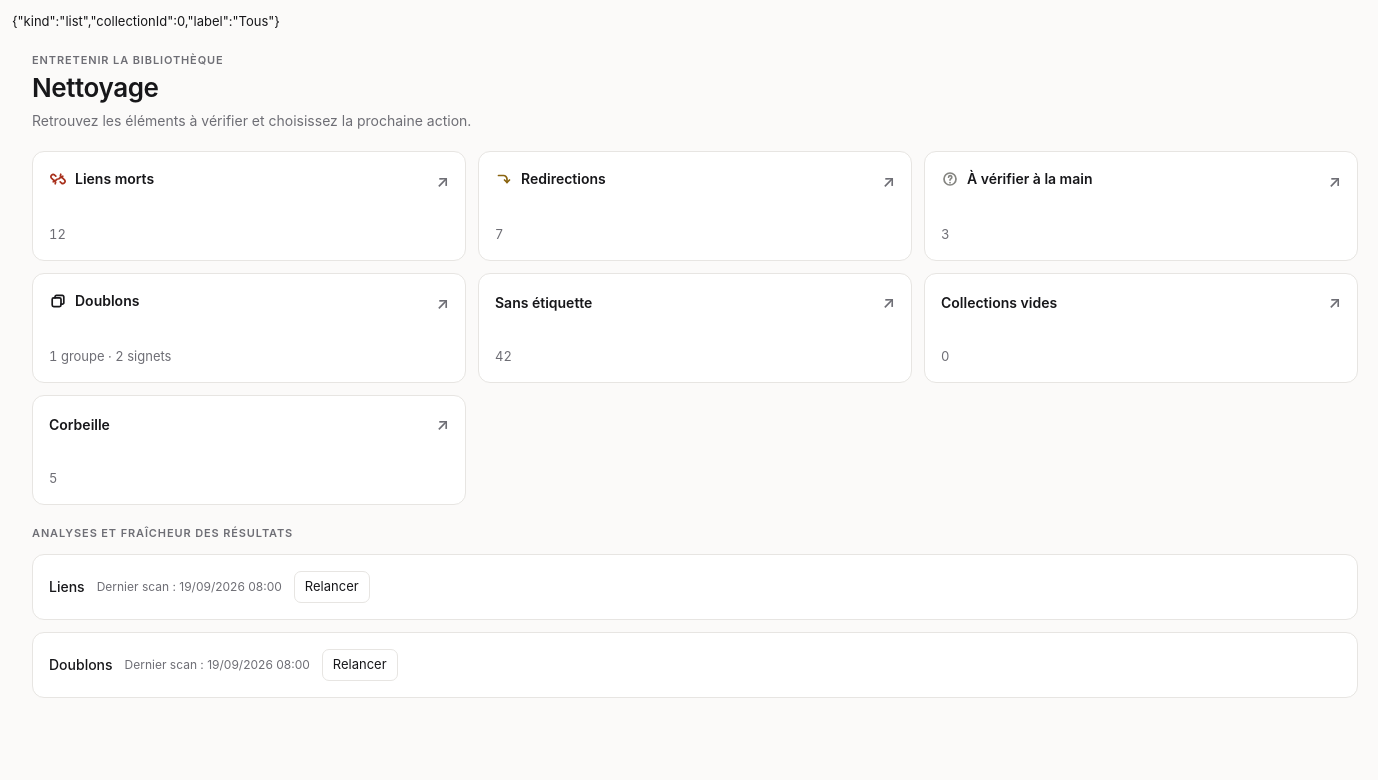
Scenario: CleanupDashboard › affiche l'erreur inline quand le lancement échoue
This screenshot has width=1378, height=780.
Click the button named "Lancer l'analyse" at (332, 586), box x1=294 y1=570 x2=370 y2=602
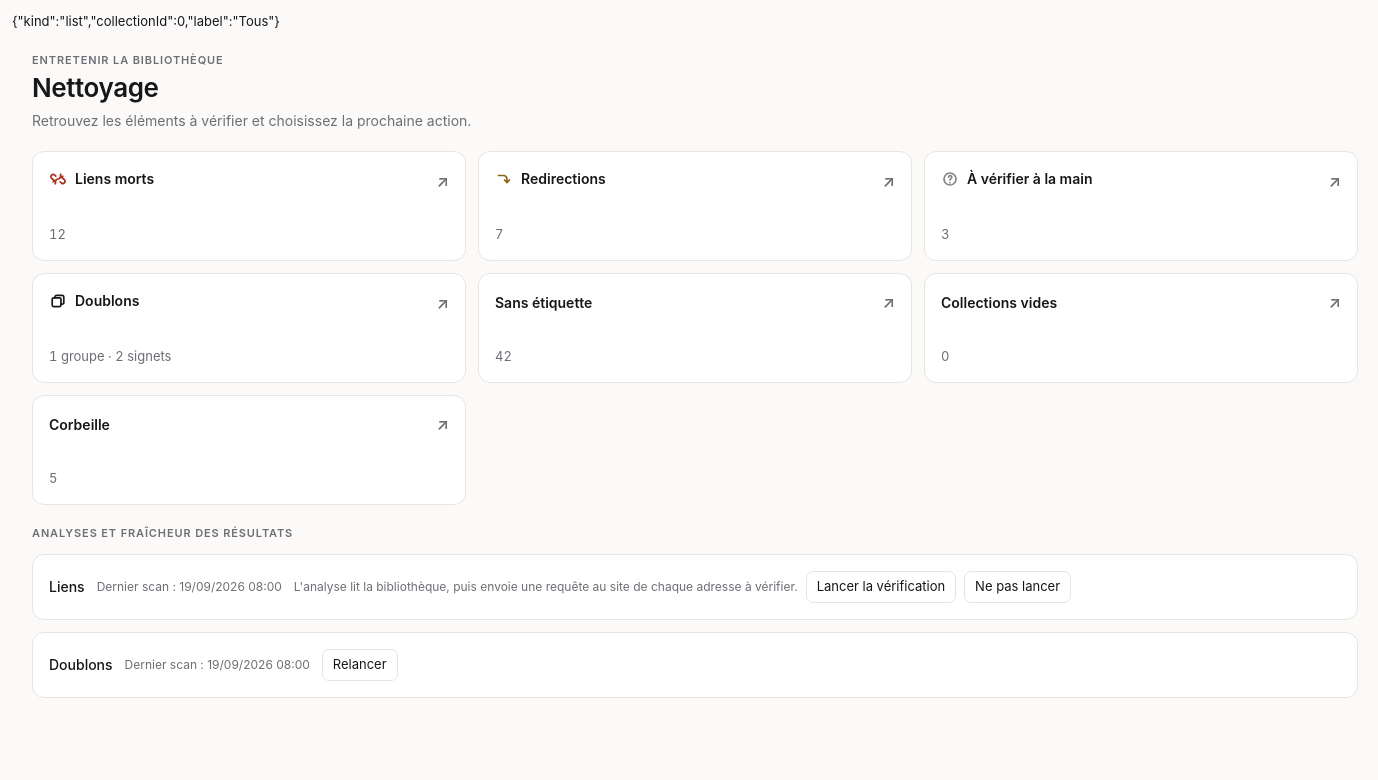
Click the button "Lancer la vérification" at (881, 586), box x1=806 y1=570 x2=956 y2=602
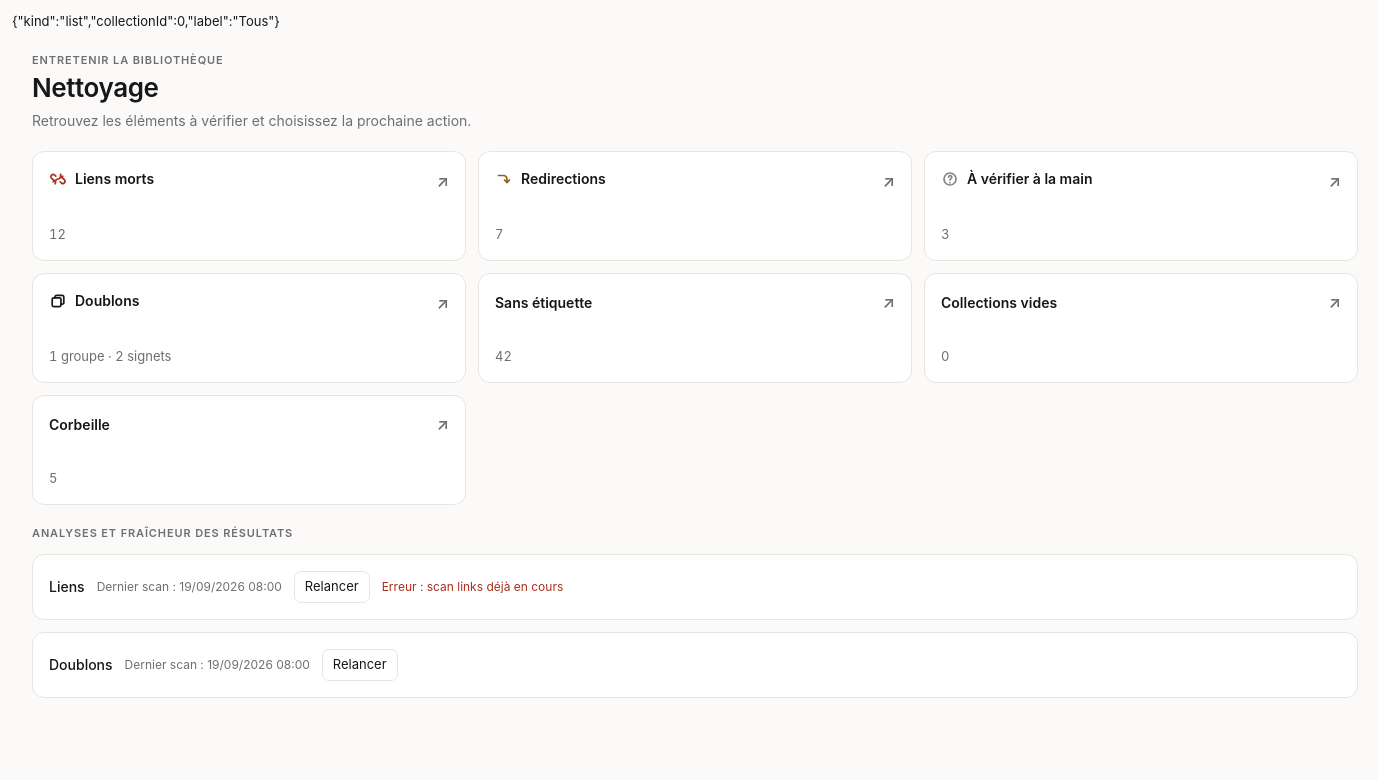
Check: the message reads "Erreur : scan links déjà en cours", box x1=382 y1=578 x2=563 y2=594
